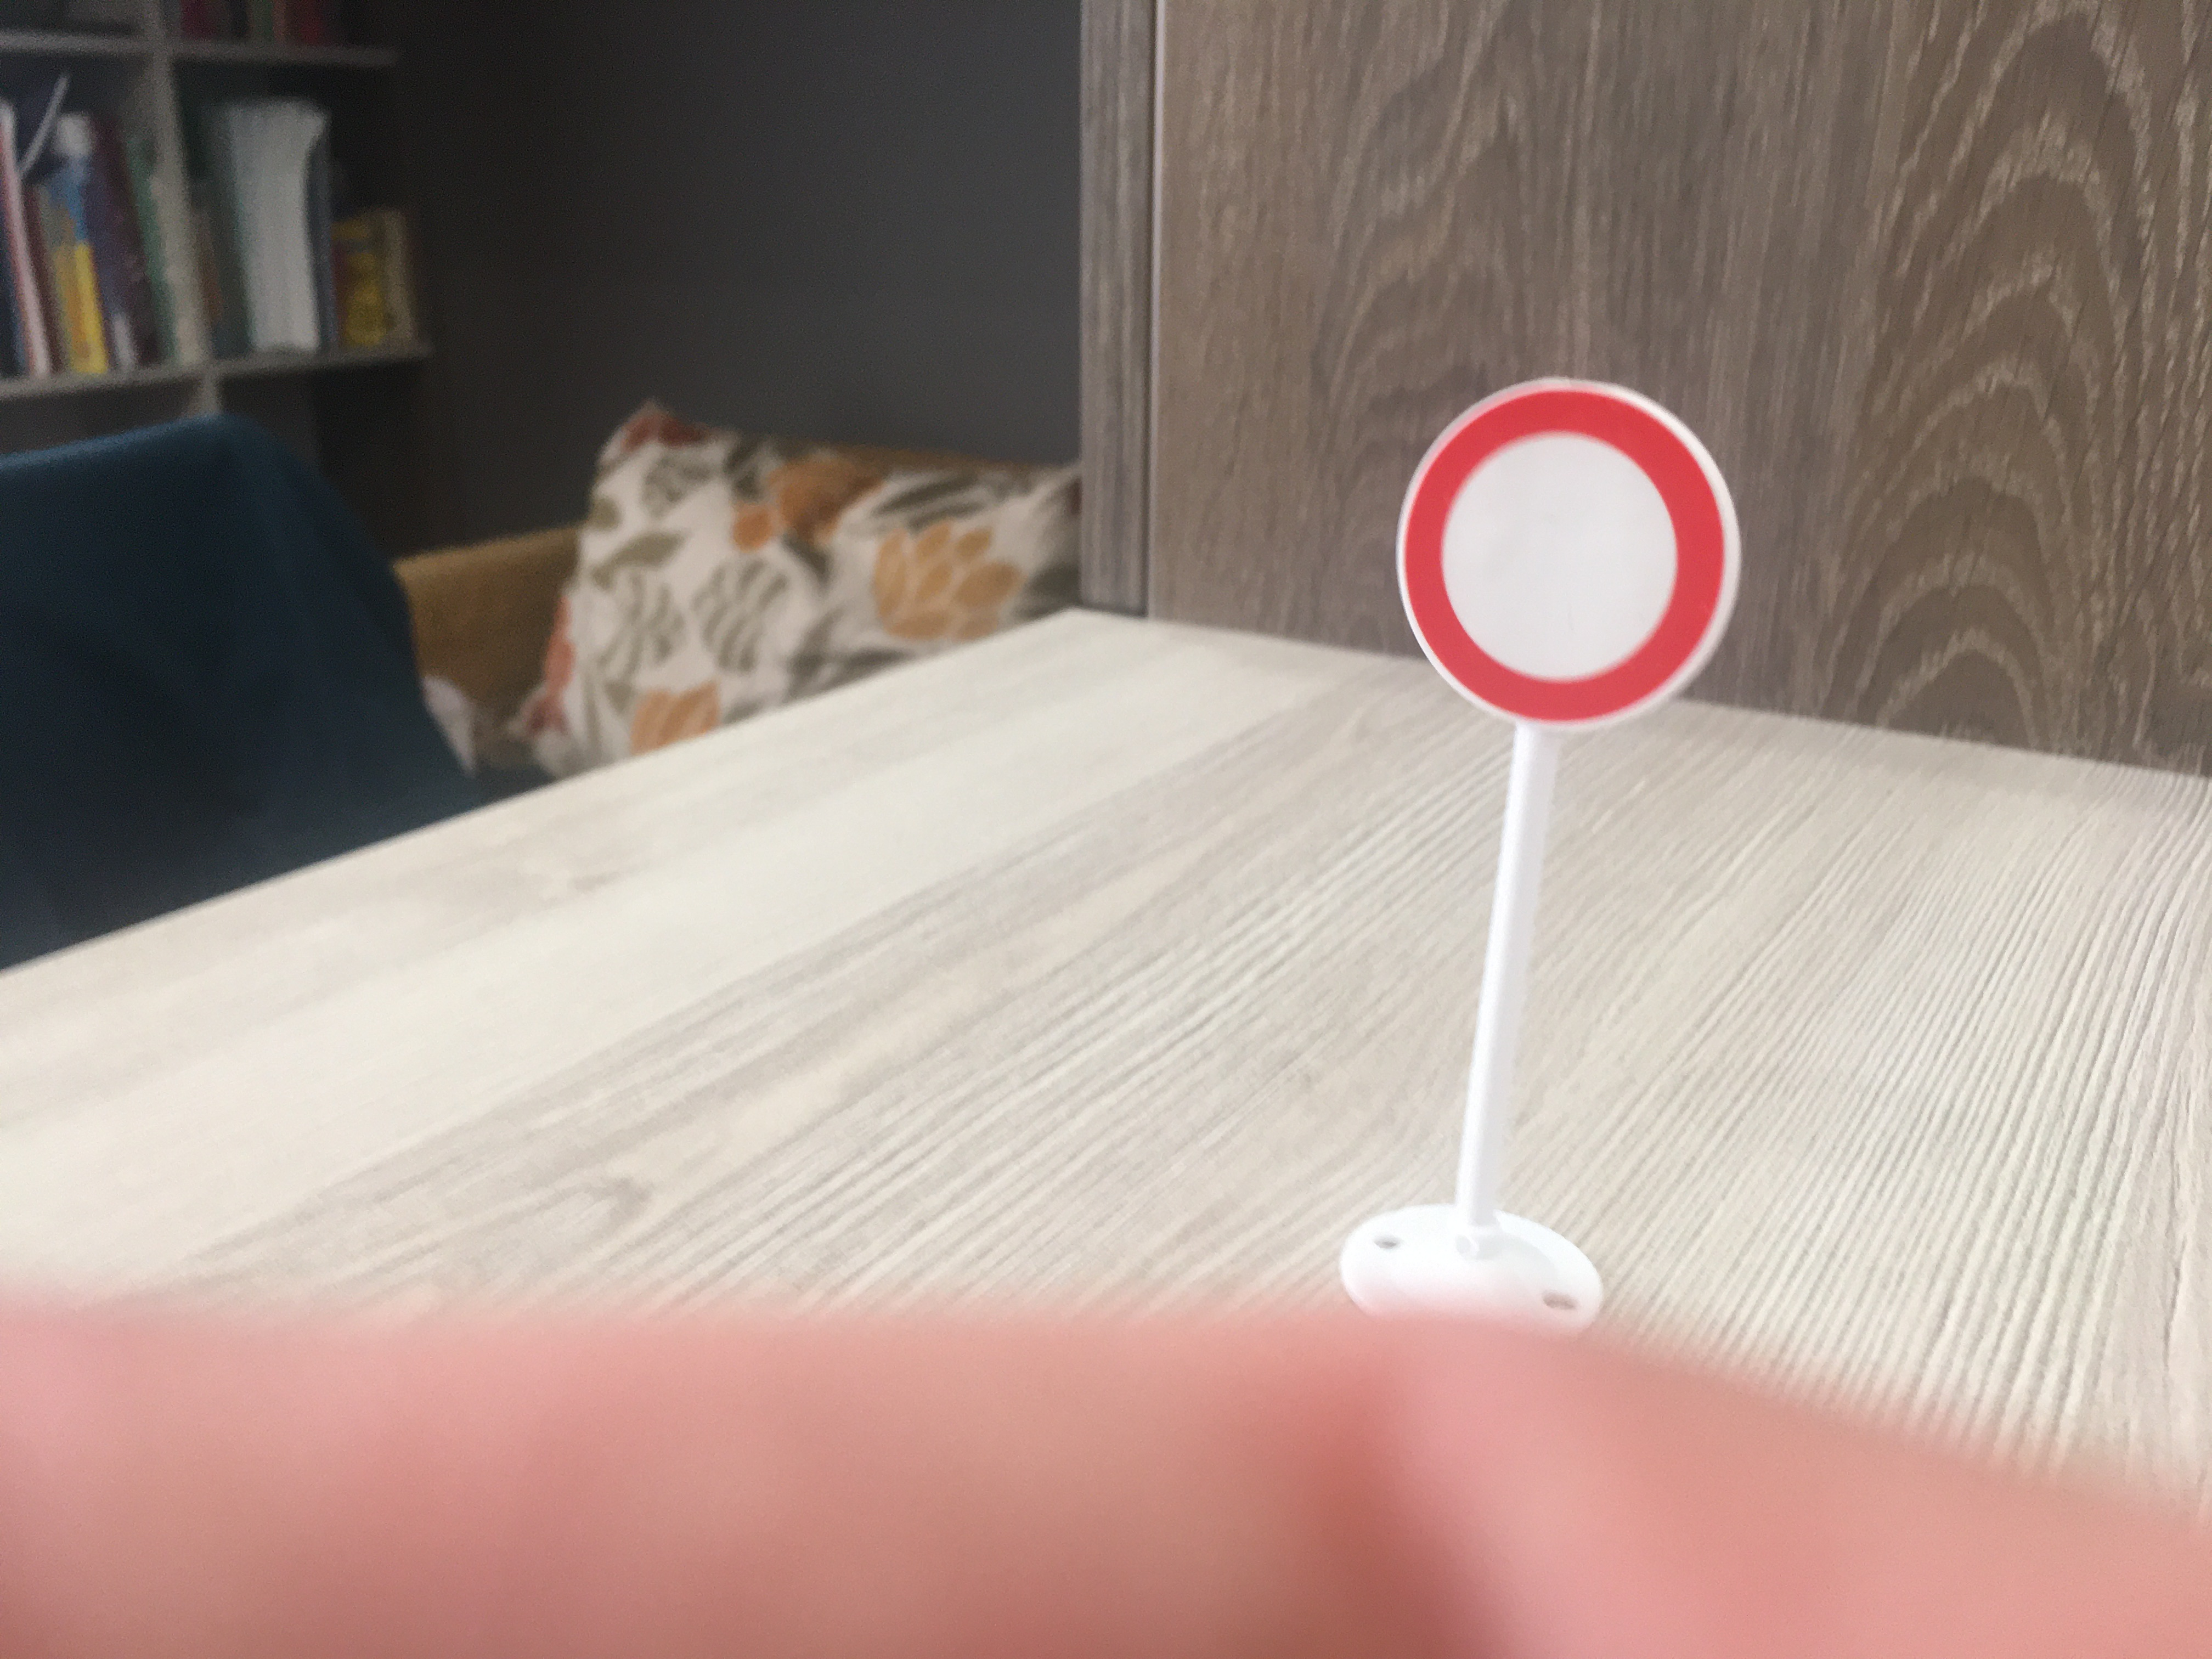noDrive: (1392, 383, 1738, 732)
